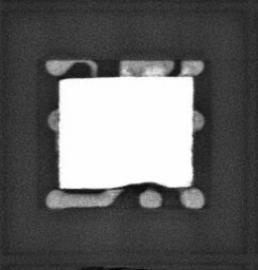DIE_BROKEN: (112, 178, 171, 190)
